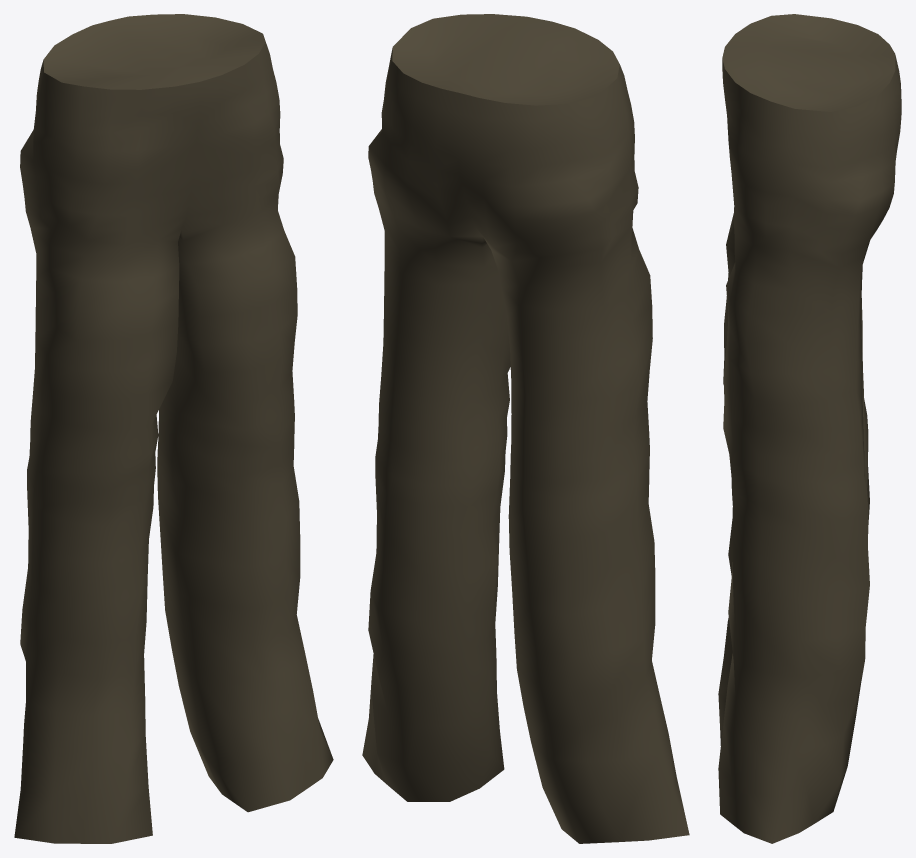
Rendered from m_pants_01.fbx.
3 renders of one model, left to right at view 1: azimuth 30°, elevation 25°; view 2: azimuth 150°, elevation 25°; view 3: azimuth 270°, elevation 25°, orthographic. The views are drawn at different scales.
Parts seen in each view (by area): view 1: m_pants_01; view 2: m_pants_01; view 3: m_pants_01.
Part boxes in pixels (box(x1,y1,x2,y2)): m_pants_01: box(14, 14, 333, 843); m_pants_01: box(362, 14, 689, 843); m_pants_01: box(718, 14, 901, 843).
Bounding box in the file's own units: 42.59 × 94.54 × 21.9.
